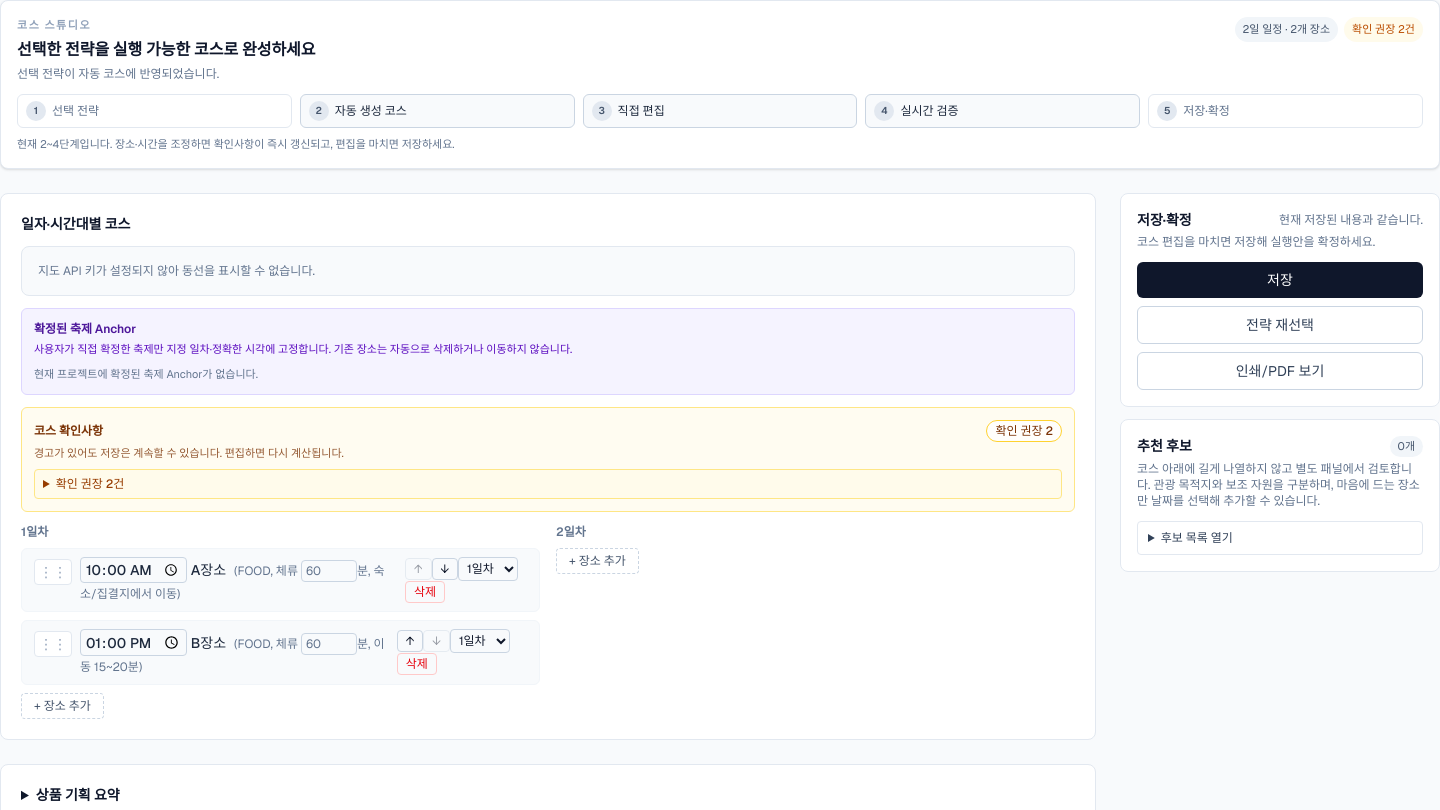
Test case: PlanEditor 코스 추가/삭제/이동 › 검색 결과에서 장소를 골라 추가하면 해당 날짜에 새 항목으로 들어간다
Click the 1st button "+ 장소 추가": (597, 561) [556, 548, 639, 574]
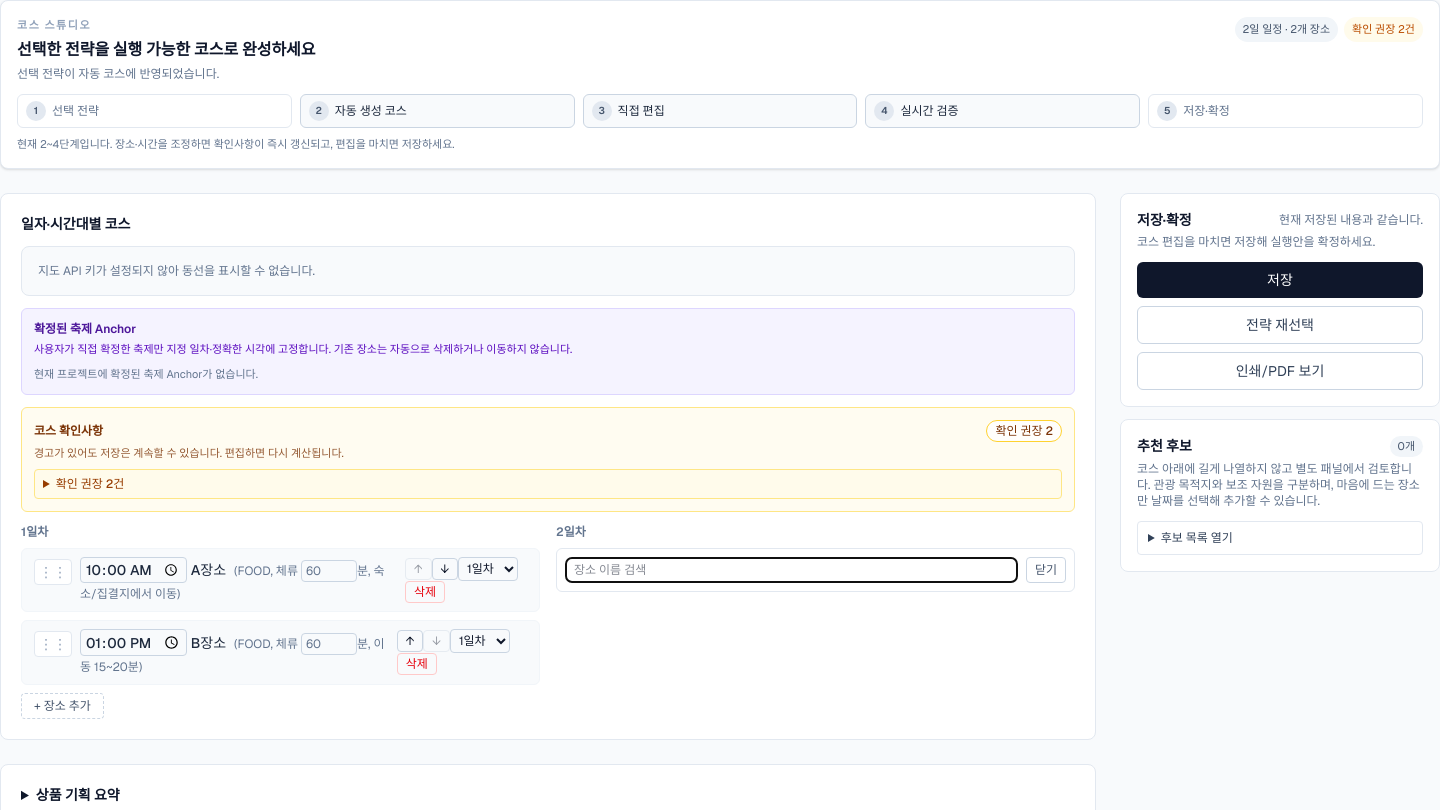
In the field with placeholder "장소 이름 검색": (791, 570) [565, 557, 1018, 583], type "C"
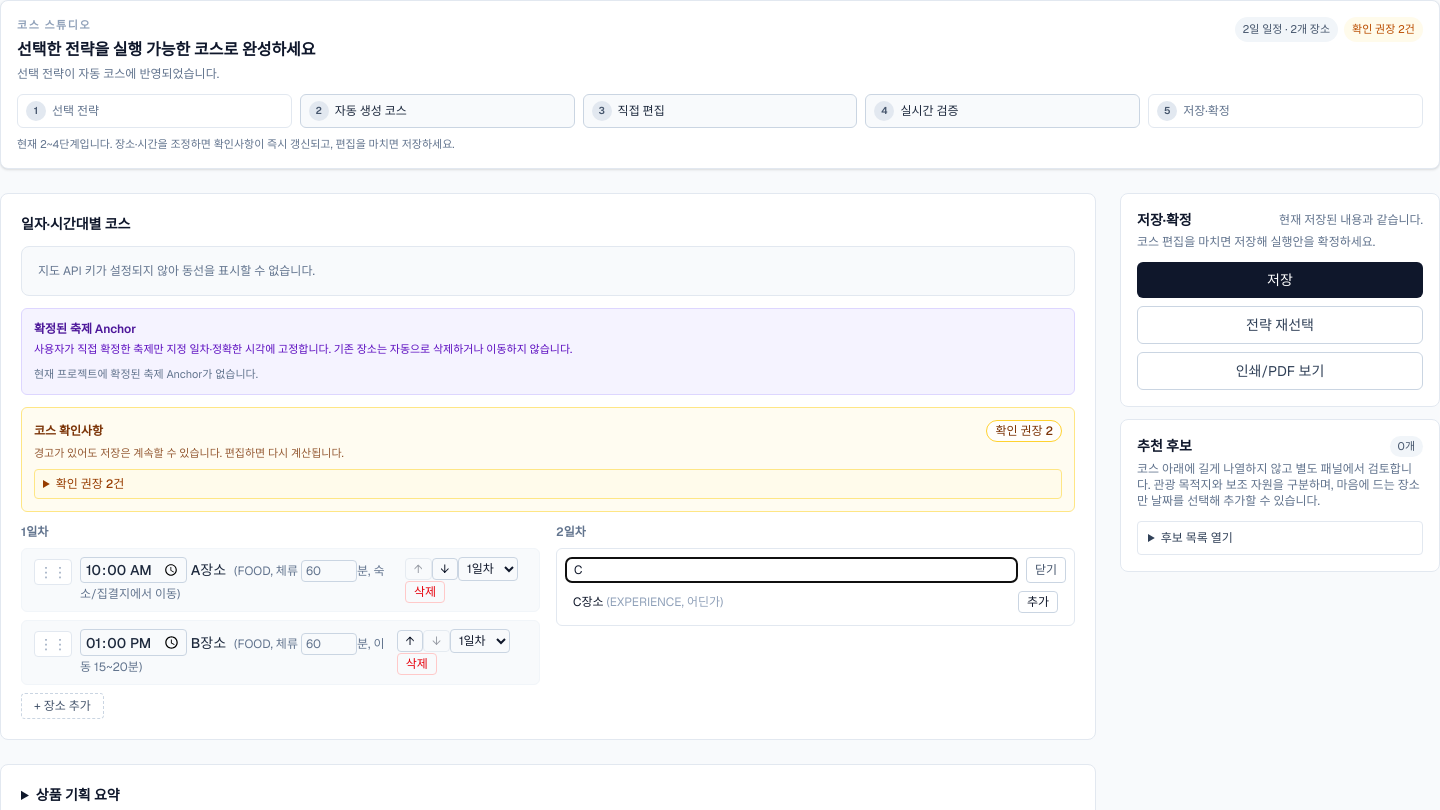
Click the button with aria-label "C장소 코스에 추가": (1038, 602) [1018, 591, 1058, 613]
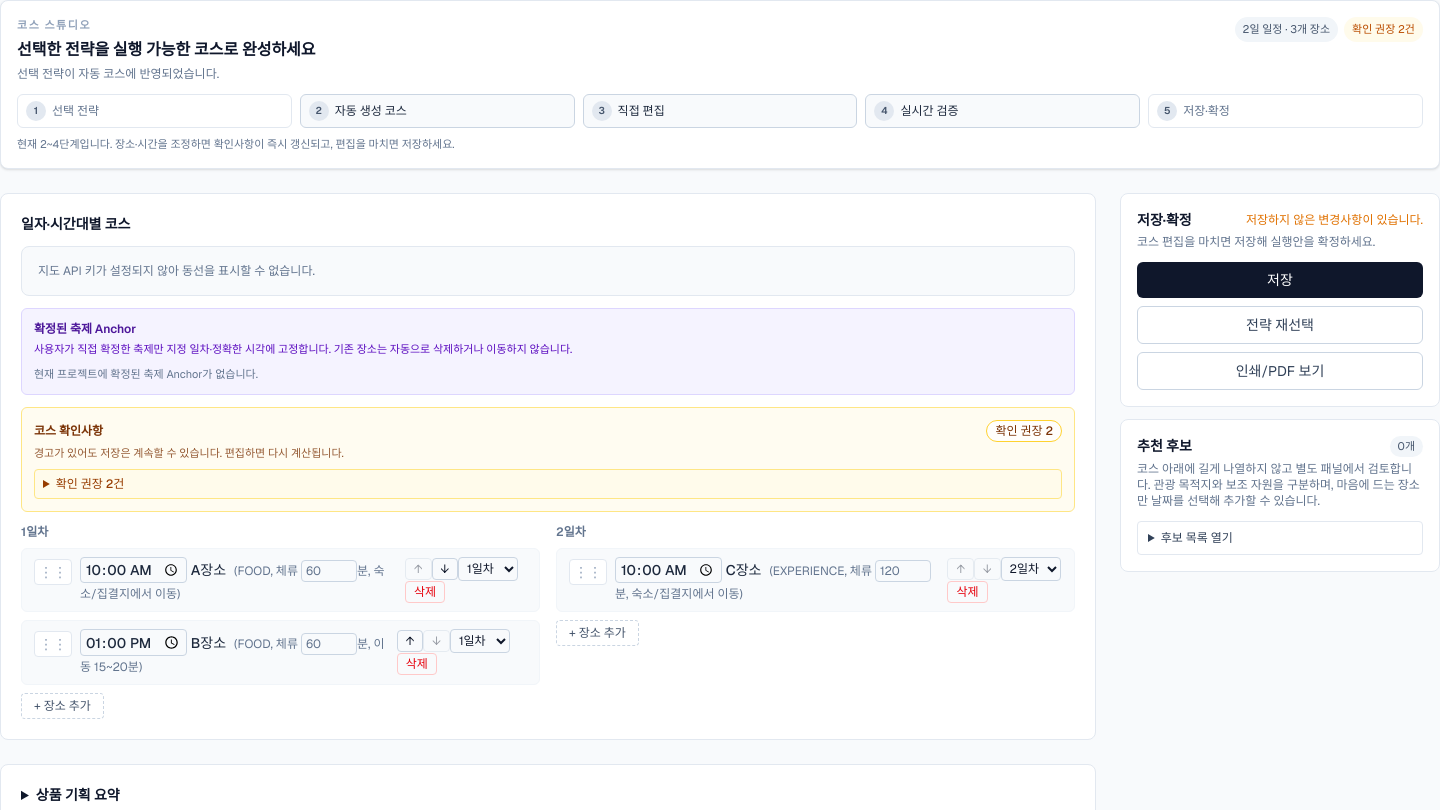
Check: the text "C장소" is shown, box [615, 561, 761, 579]
Check: the number of buttons "+ 장소 추가" is 2, box [21, 693, 104, 719]; [556, 620, 639, 646]
